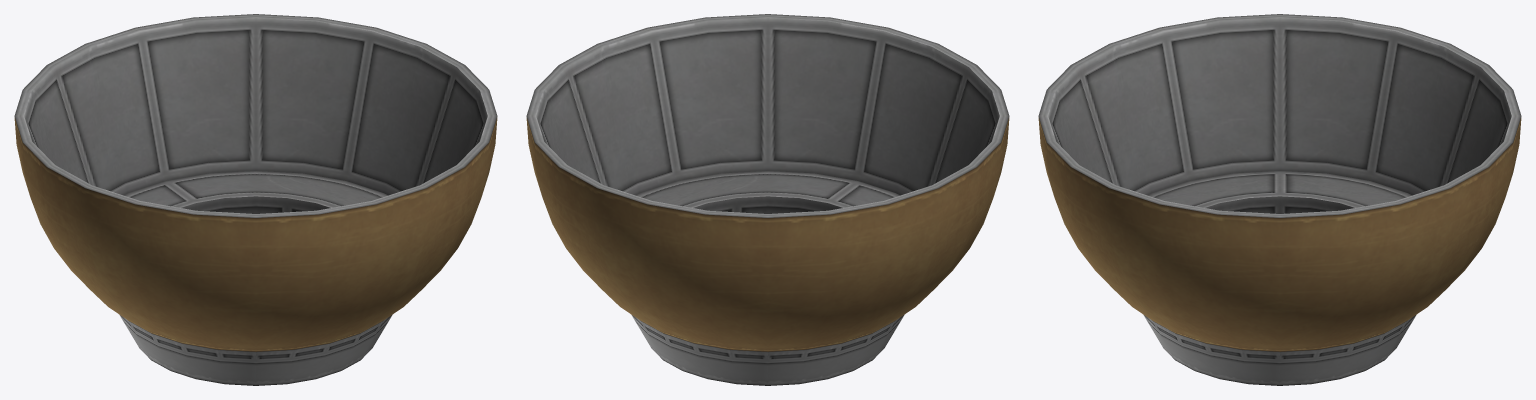
The model's file is 4m_hemisphere_heatshield_s1_1.obj.
3 renders of one model, left to right at view 1: azimuth 30°, elevation 25°; view 2: azimuth 150°, elevation 25°; view 3: azimuth 270°, elevation 25°, orthographic.
Parts seen in each view (by area): view 1: mesh1, fairing1; view 2: mesh1, fairing1; view 3: mesh1, fairing1.
Boxes of the visible parts, <box> form: mesh1: <box>14,14,497,351</box>; fairing1: <box>119,315,392,385</box>; mesh1: <box>526,14,1009,351</box>; fairing1: <box>631,315,904,385</box>; mesh1: <box>1038,14,1521,351</box>; fairing1: <box>1143,315,1416,385</box>.
Size of the model in its own units: 1.25 by 0.625 by 1.25.
Materials: 2 (2 with a texture image).
